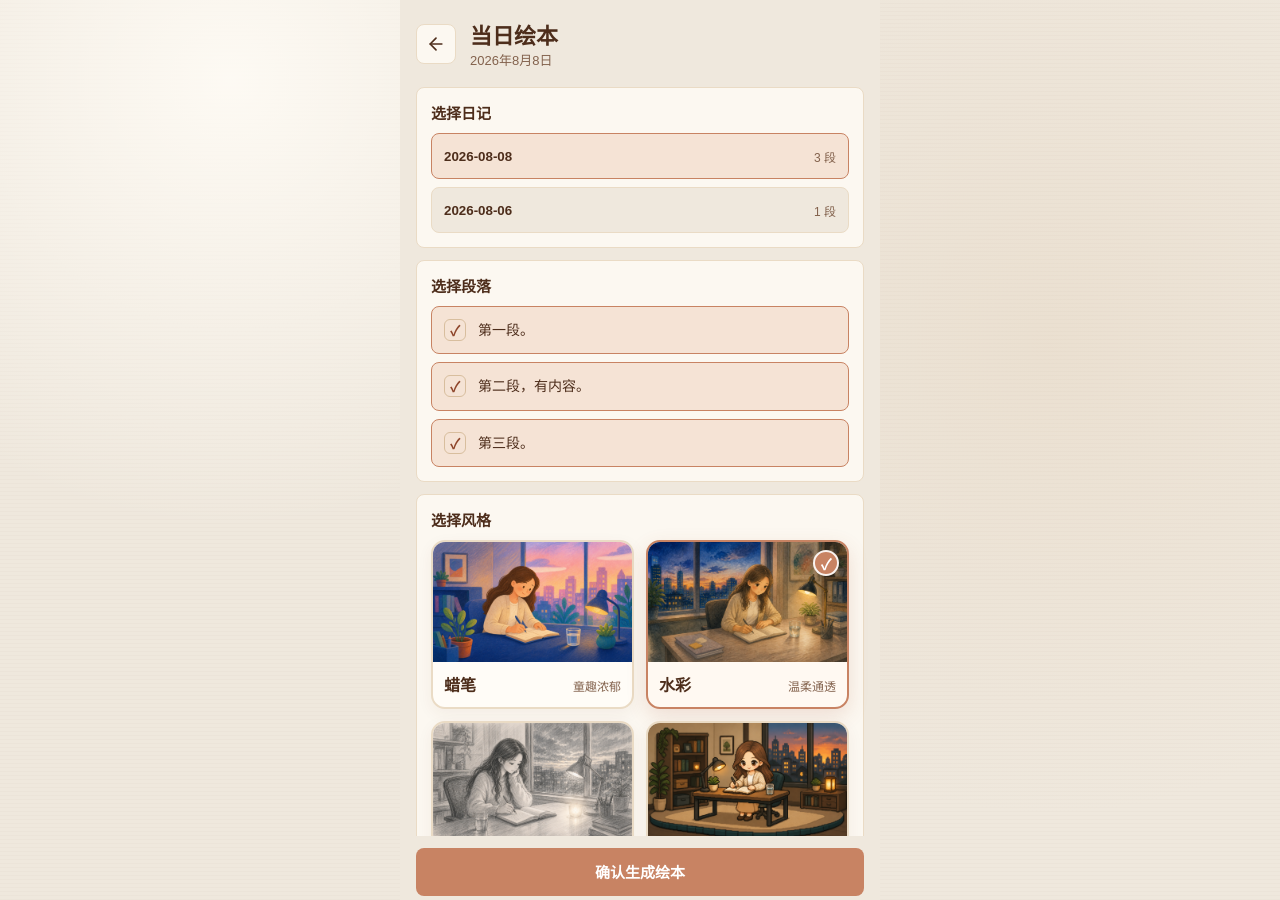
Test case: DailyPicturebookWizard › selects style and creates no draft before confirmation
The image size is (1280, 900).
Expected: the button "2026-08-08 3 段" is shown, [431, 133, 849, 179]
Click the button with aria-label "水彩温柔" at (748, 624), box [646, 540, 849, 709]
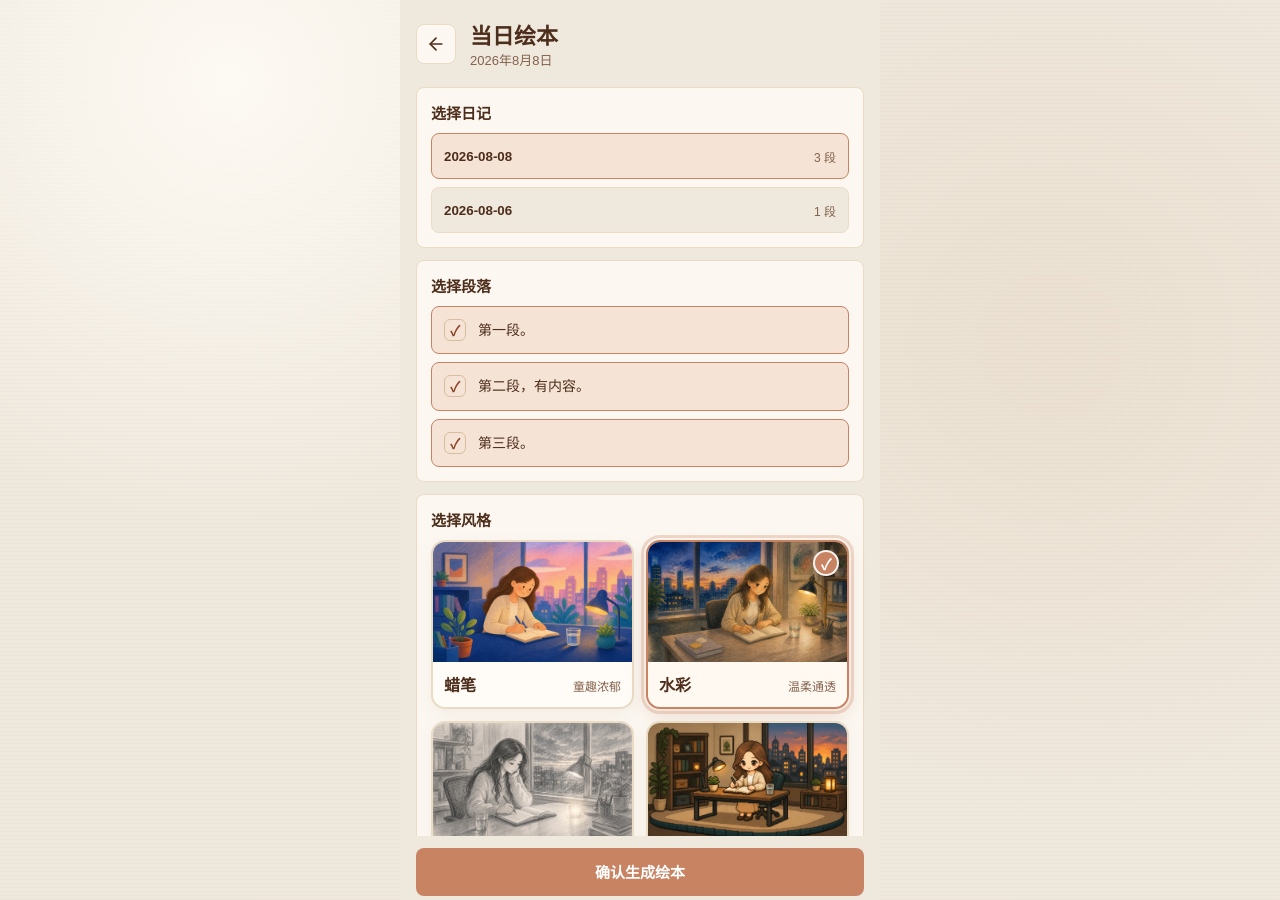
Click the checkbox labelled "✓ 第二段，有内容。" at (534, 386), box [431, 362, 849, 411]
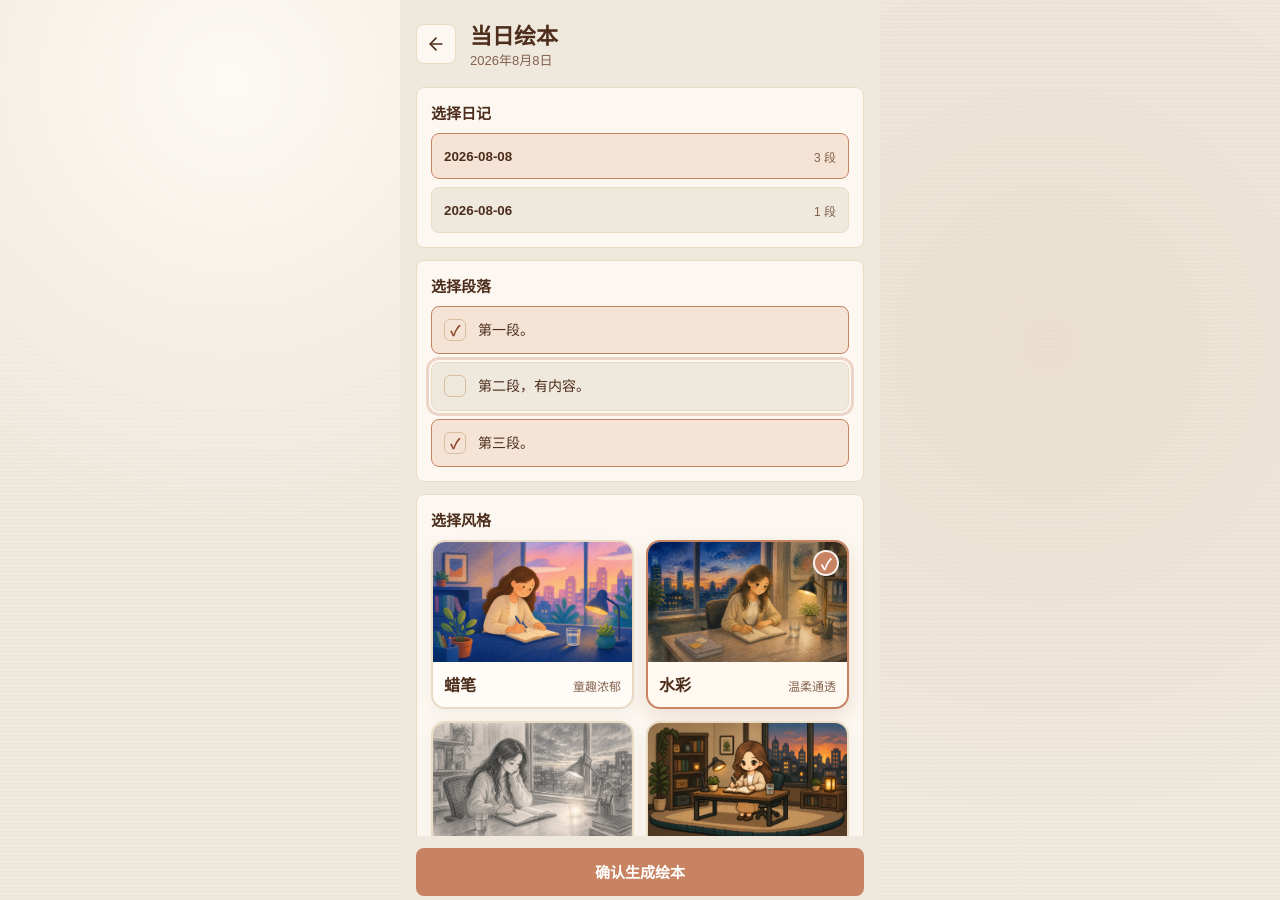
Click the button "确认生成绘本" at (640, 872), box [416, 848, 864, 896]
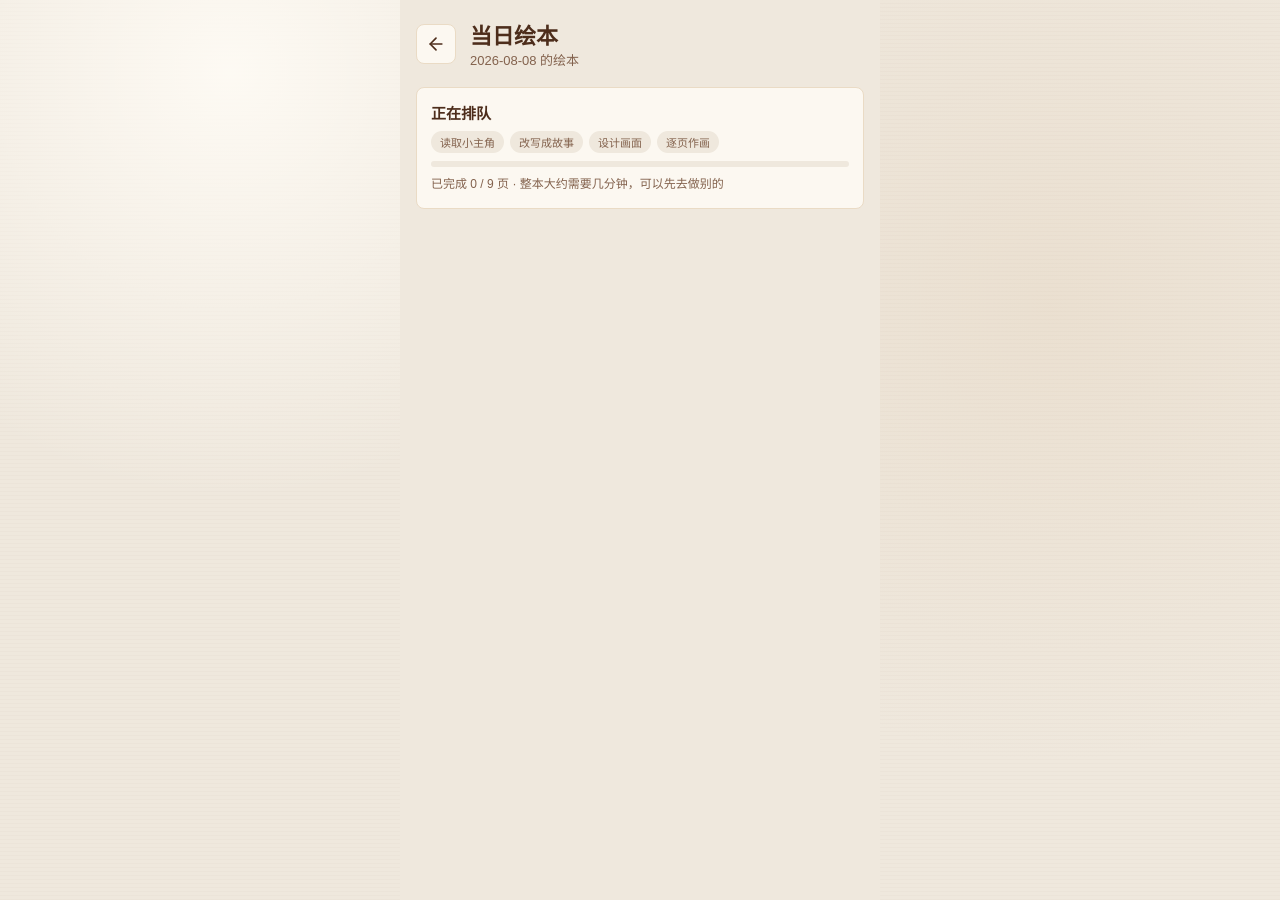
Result: the text "正在排队" is shown at [431, 105, 491, 122]
